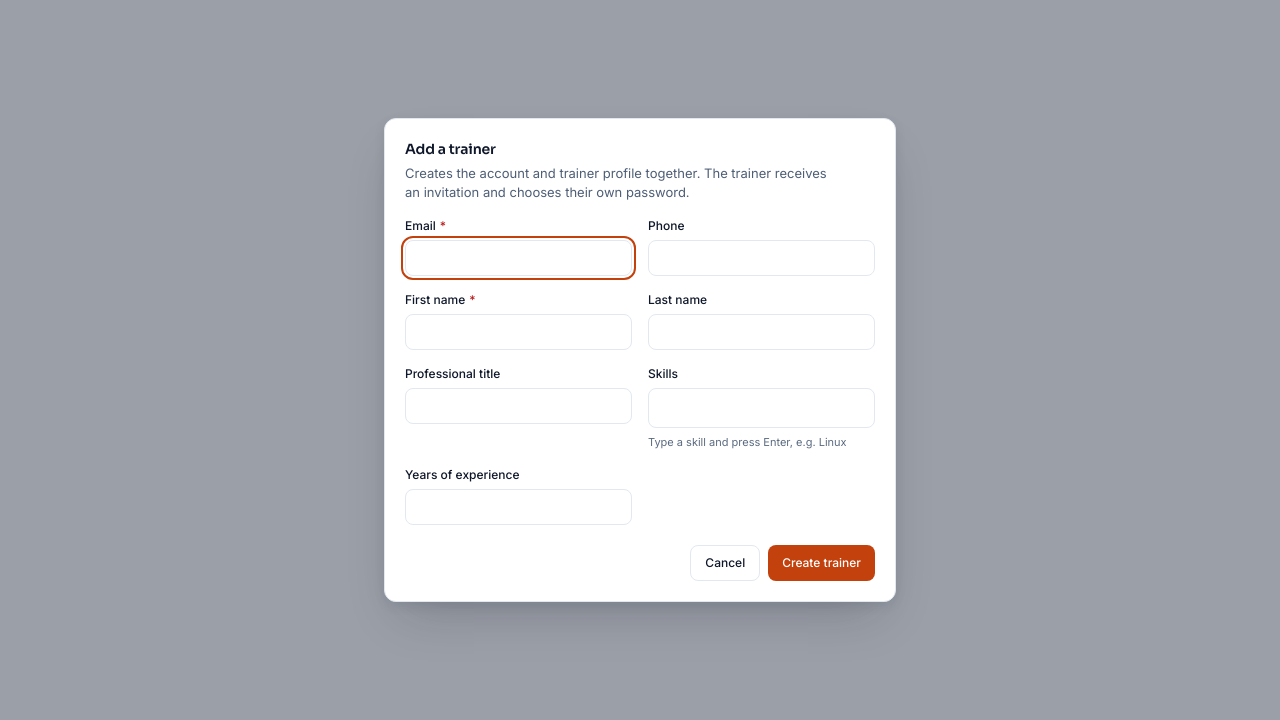
Test: CreateTrainerDialog — an address that already has an account › keeps the plain message for someone who cannot read accounts
The width and height of the screenshot is (1280, 720).
Type "meera@example.com" into the field labelled "Email*". click: (518, 258)
box: [405, 240, 632, 276]
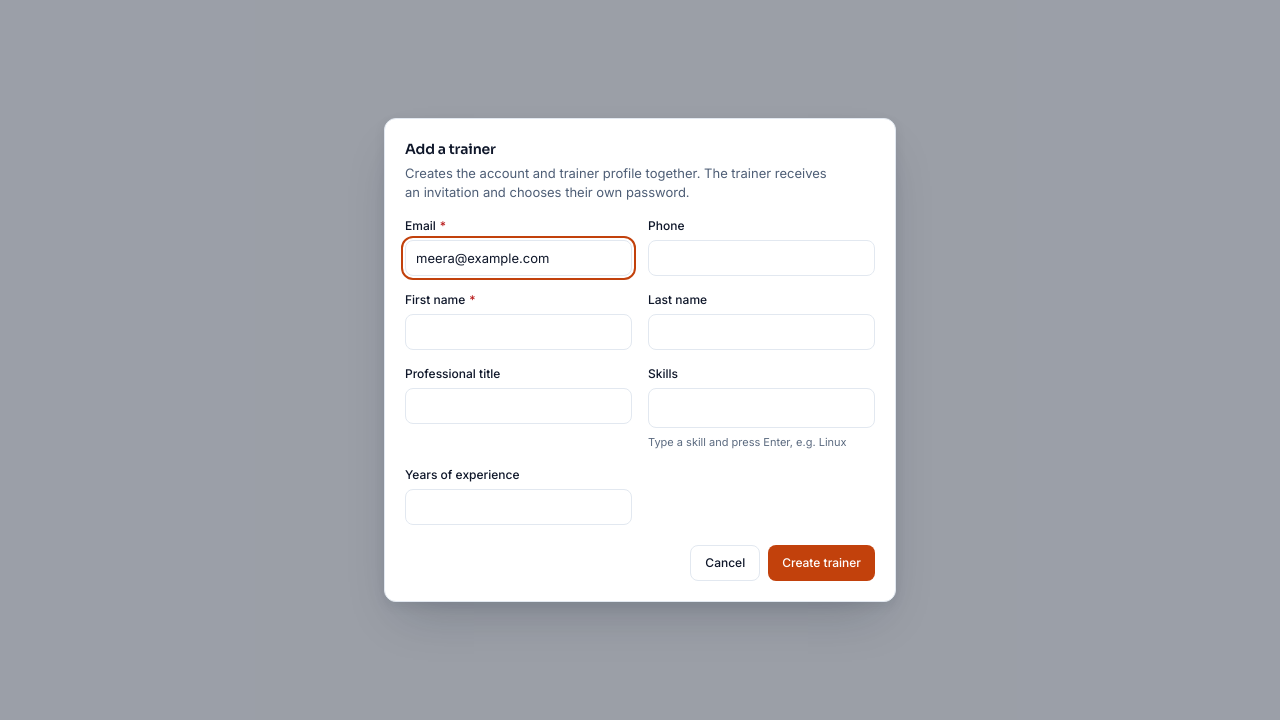
Type "Meera" into the field labelled "First name*". click: (518, 332)
box: [405, 314, 632, 350]
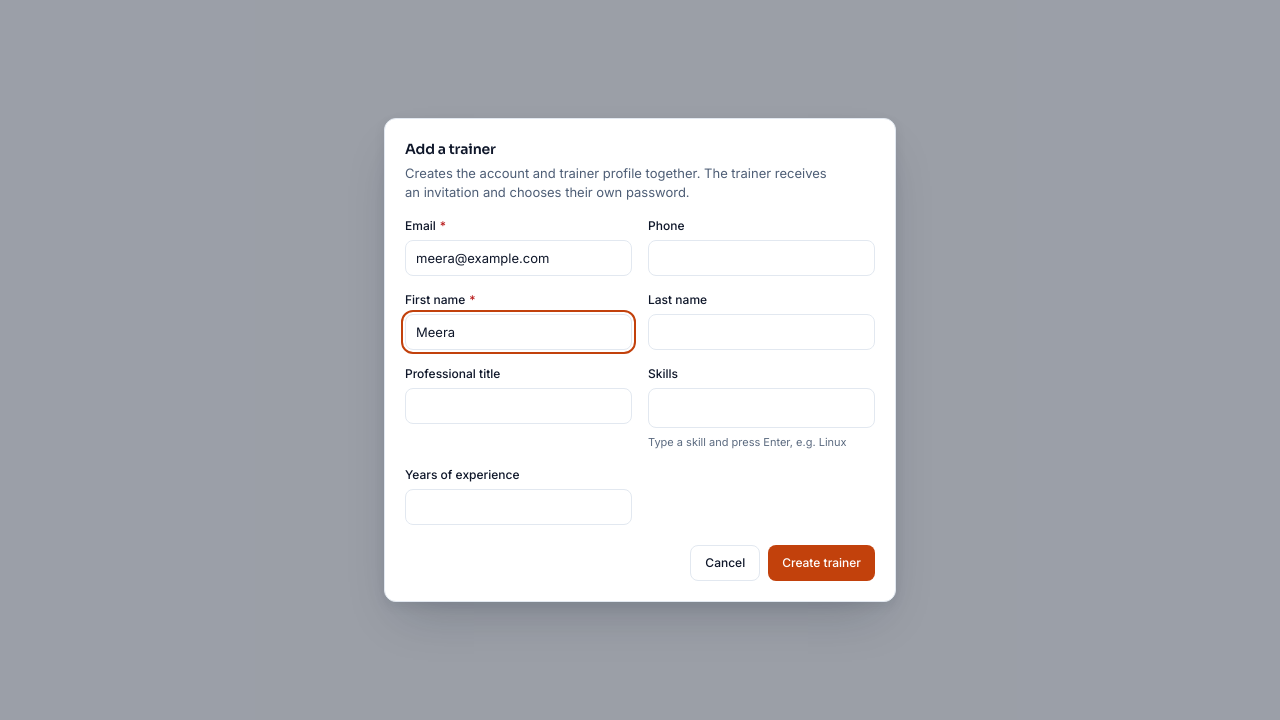
Click the button "Create trainer". click: click(822, 563)
box: [768, 545, 875, 581]
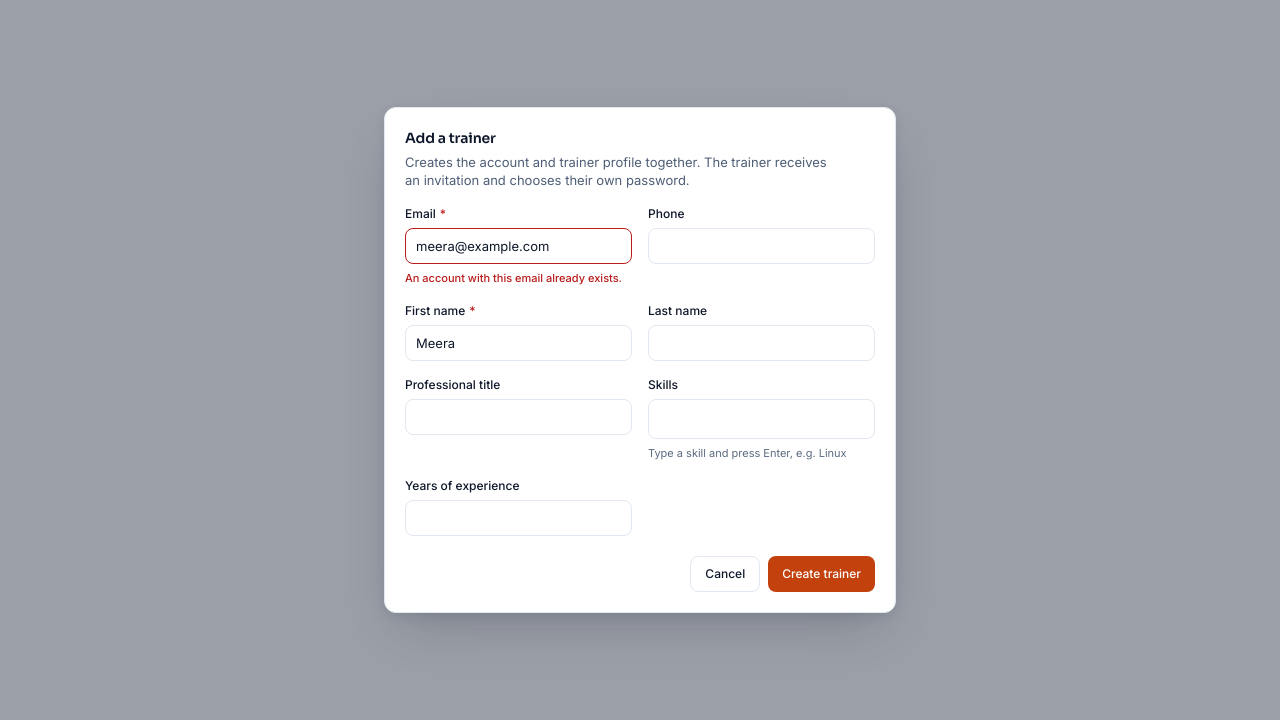
expect the text "An account with this email already exists." is shown: met, box [405, 270, 632, 287]
